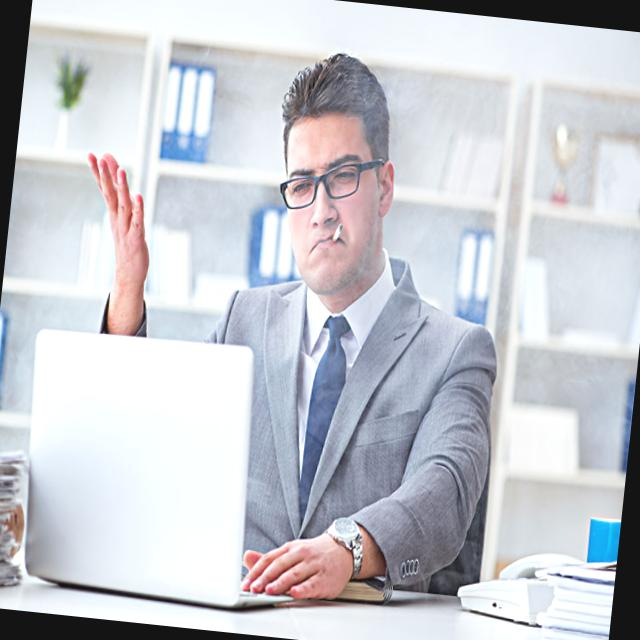cigarette: (332, 218, 342, 244)
